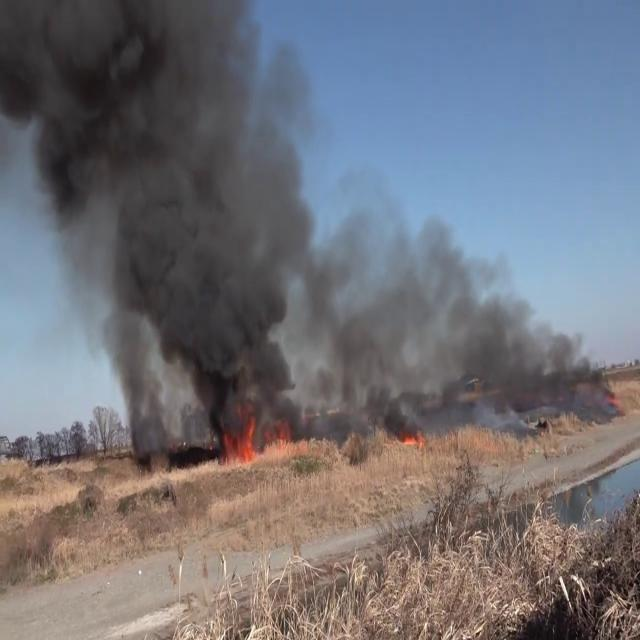Fire: (218, 407, 316, 467), (220, 408, 264, 468)
Smoke: (0, 0, 309, 436), (304, 183, 612, 429)
